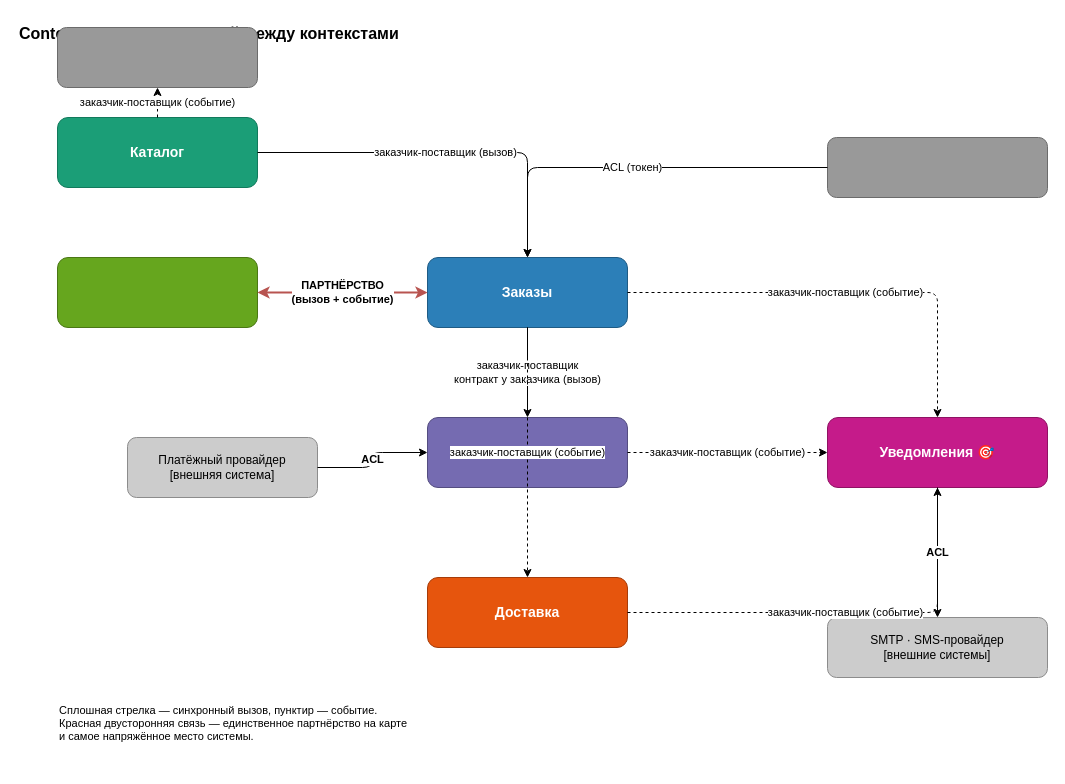
The diagram is 1065 pixels wide and 784 high, and some of its shapes have lost their labels. Here are the shapes that lost their labels. From the top down, the box of each, then its label:
(56, 26, 258, 88): Рекомендации (на доске не проступил)
(826, 136, 1048, 198): Авторизация (на доске не проступил)
(56, 256, 258, 328): Склад
